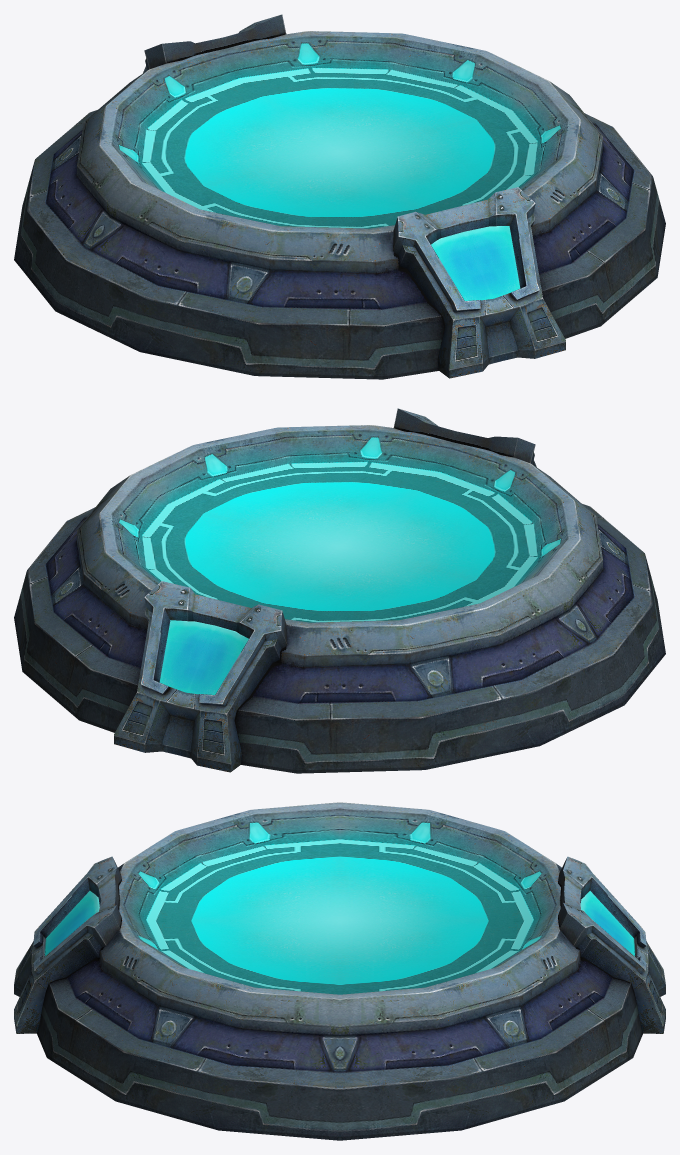
File: yw_jixiezhidu_xiaozhuangzhi03.FBX
3 renders of one model, top to bottom at view 1: azimuth 30°, elevation 25°; view 2: azimuth 150°, elevation 25°; view 3: azimuth 270°, elevation 25°, orthographic. The views are drawn at different scales.
Visible parts, largest first — view 1: yw_jixiezhidu_xiaozhuangzhi03; view 2: yw_jixiezhidu_xiaozhuangzhi03; view 3: yw_jixiezhidu_xiaozhuangzhi03.
Part boxes in pixels (x1=…): yw_jixiezhidu_xiaozhuangzhi03: x1=14, y1=14, x2=665, y2=379; yw_jixiezhidu_xiaozhuangzhi03: x1=14, y1=408, x2=665, y2=773; yw_jixiezhidu_xiaozhuangzhi03: x1=14, y1=802, x2=665, y2=1140.
Bounding box in the file's own units: 60.91 × 12.92 × 62.58.
